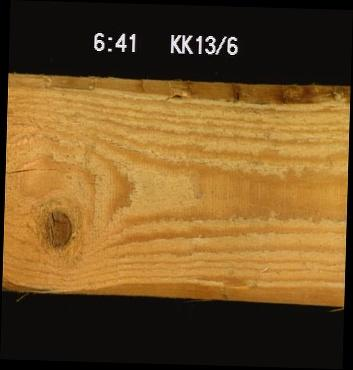dry_knot: (38, 206, 73, 247)
split: (5, 162, 66, 181)
wave: (42, 80, 349, 102), (7, 283, 248, 304)
